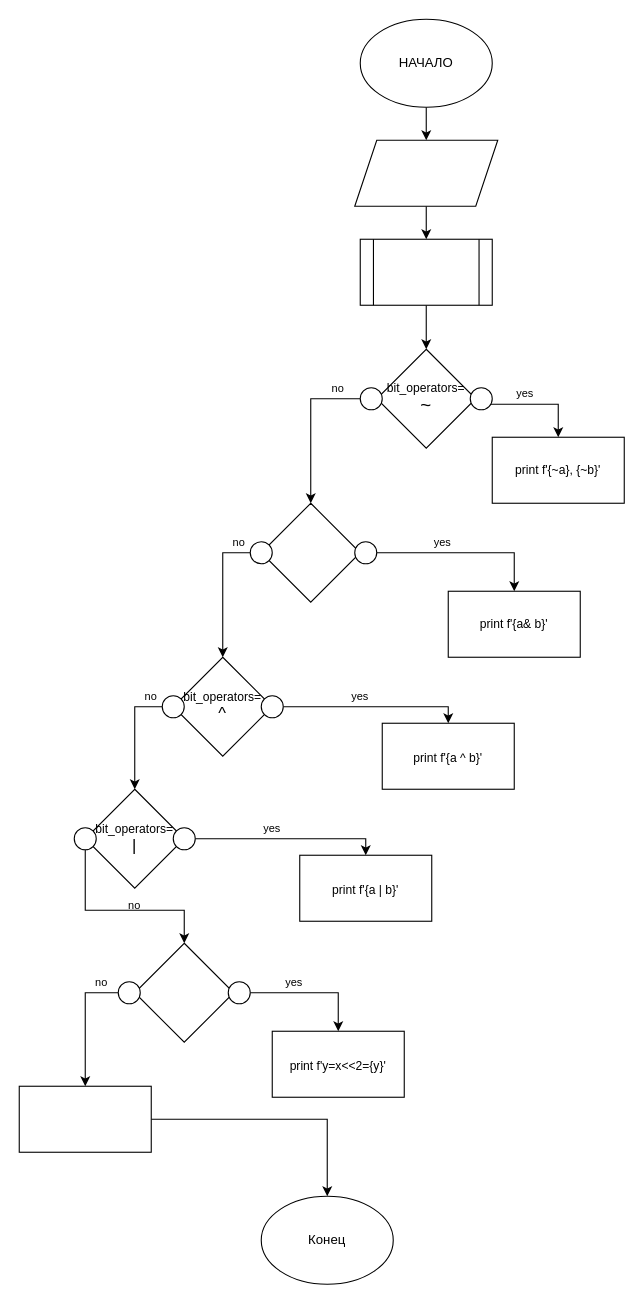
Image size: 644x1304. Some labels were removed from this diagram. The shapes that lost their labels are listed below. From the top down, each one's box as (x1, y1, x2, y2) in pixels, then its label:
(354, 139, 498, 206): a = 5, b = 6 y=a<<2, z=a>>2
(359, 238, 492, 305): bit_operators( ~, &, ^, |, <<, >> )
(260, 502, 360, 602): bit_operators= &
(134, 942, 234, 1042): bit_operators= <<
(18, 1085, 151, 1152): print f'z=x>>2={z}'
